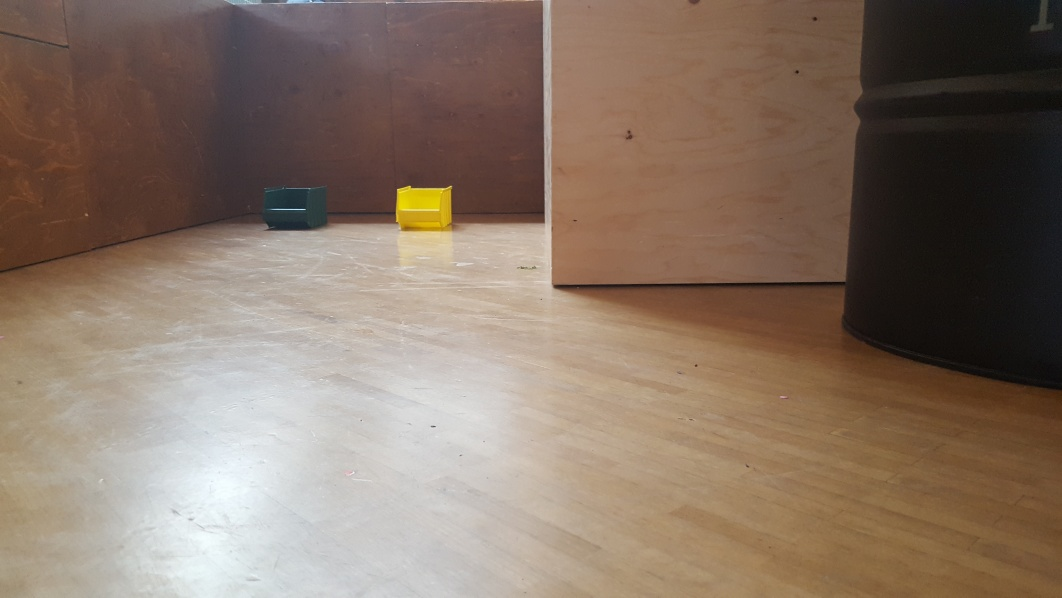tray: (259, 182, 328, 235), (390, 184, 457, 234)
